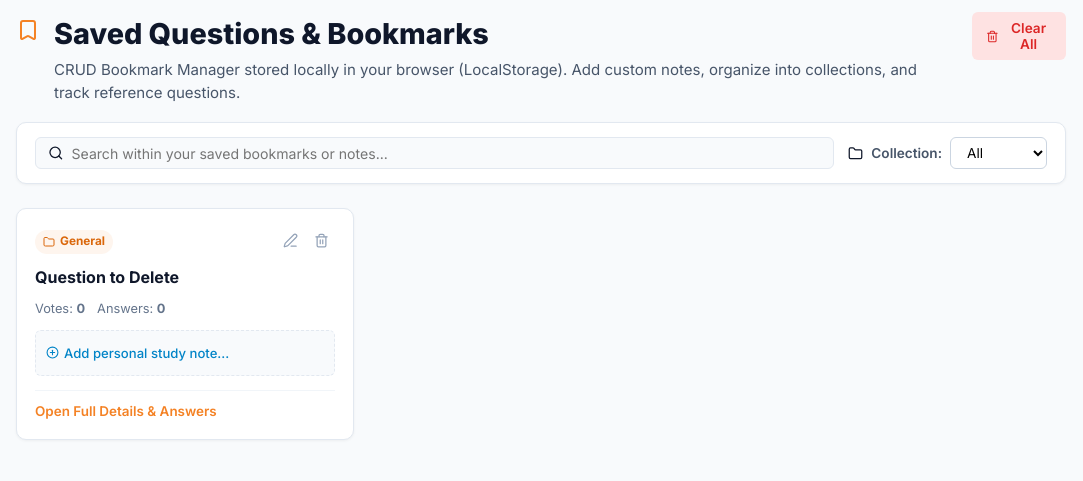
Test: Stack Overflow Question Explorer — Official FA2 Test Suite › 12. Bookmarks can be removed cleanly via CRUD delete action
Expected: the link "Question to Delete" is shown, x1=35 y1=267 x2=179 y2=287
Click the button named "Delete bookmark". click: (322, 242)
box: x1=308 y1=227 x2=335 y2=257
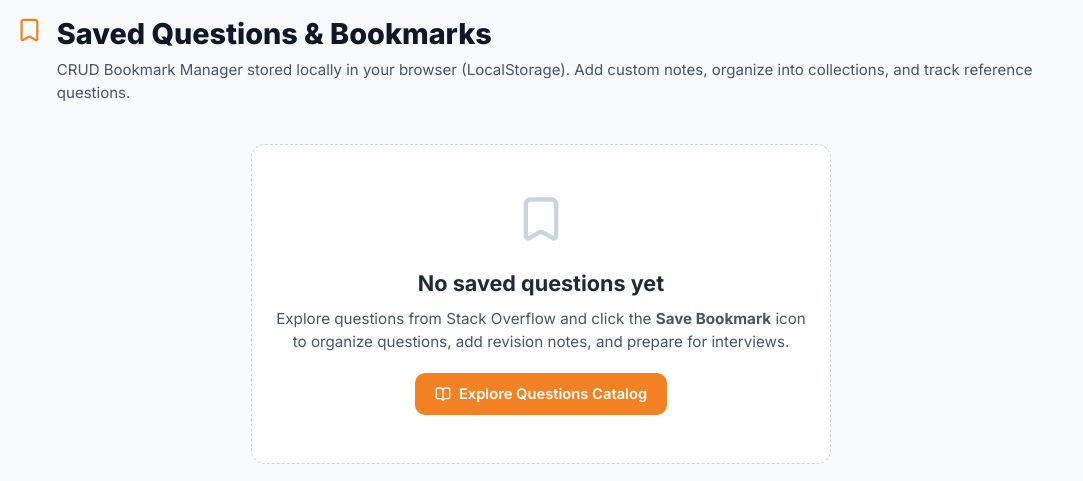
Result: the link "Question to Delete" is gone
Result: the heading "No saved questions yet" is shown at x1=418 y1=270 x2=664 y2=296
